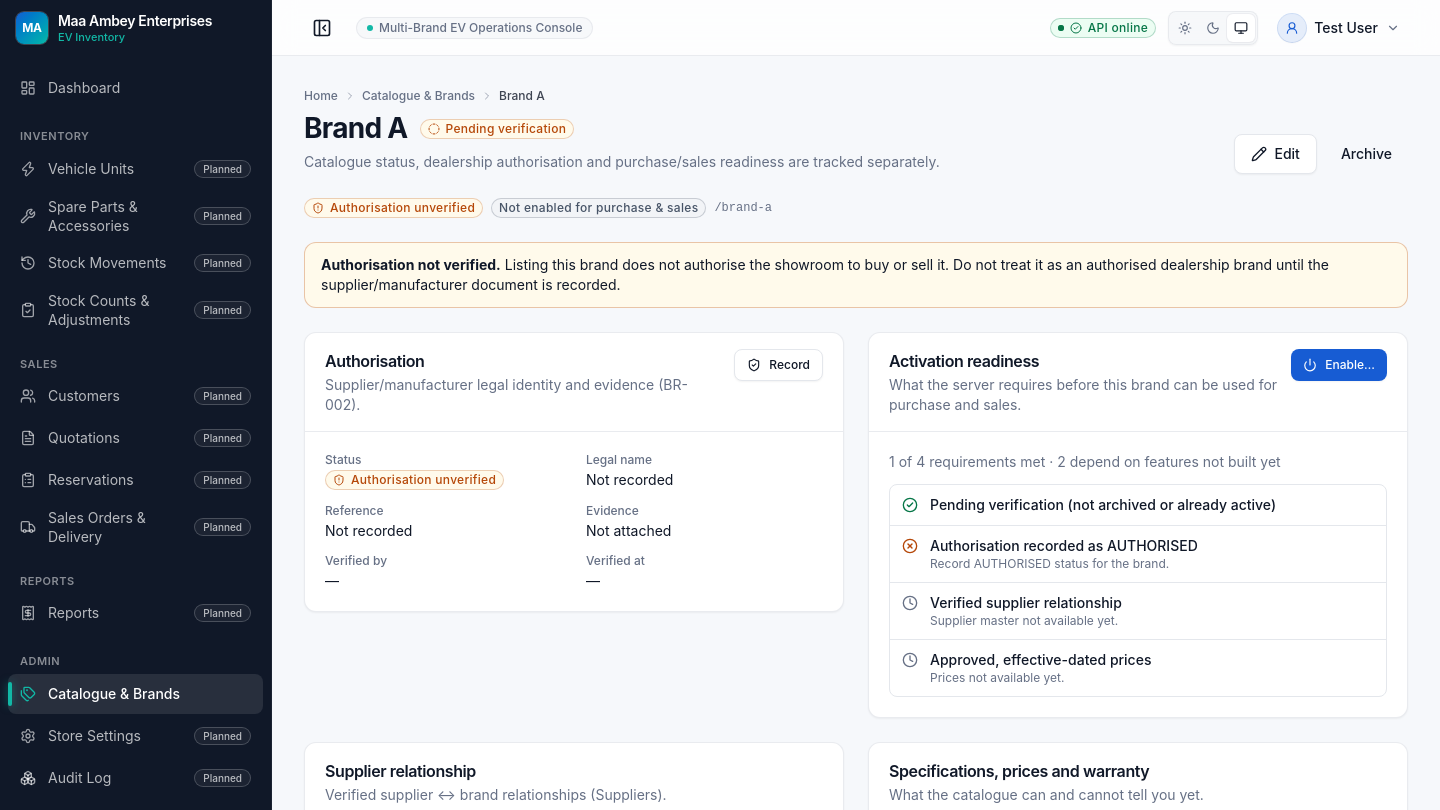
brand detail › shows readiness from the server, supplier and price gaps, and keeps activation unconfirmable while not ready
Expected: the heading "Brand A" is shown, [304,110,408,147]
Expected: the text "1 of 4 requirements met · 2 depend on features not built yet" is shown, [889,453,1281,470]
Click the button "Enable…" at (1339, 365), box [1291,349,1387,381]
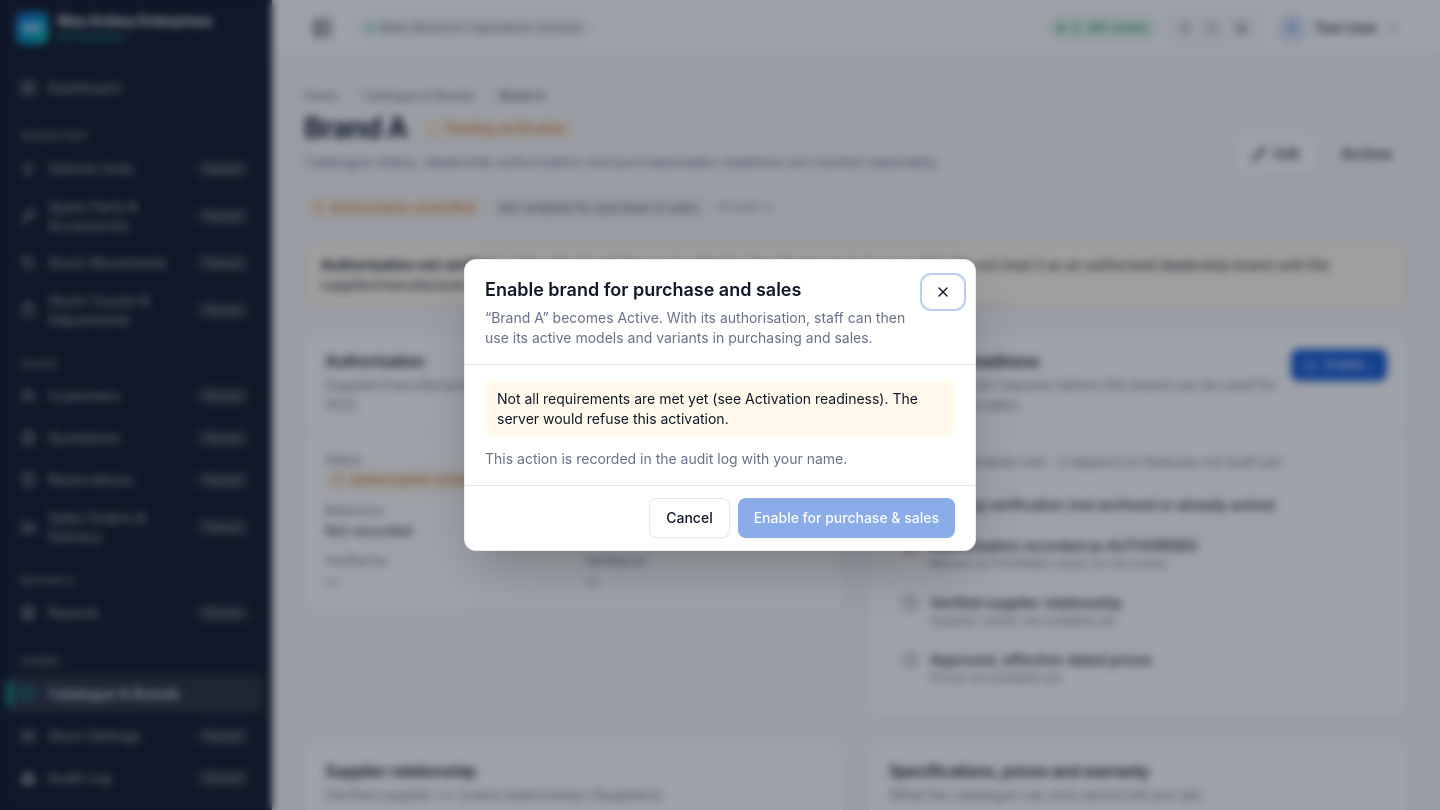
Result: the button "Enable for purchase & sales" is disabled at [738,498,955,538]
